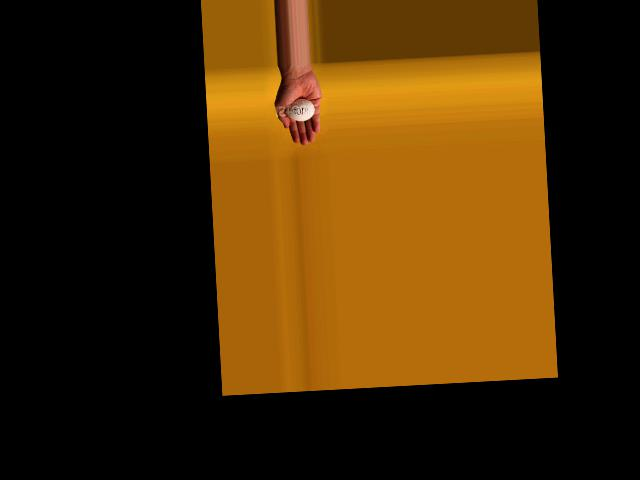egg: (285, 98, 315, 121)
